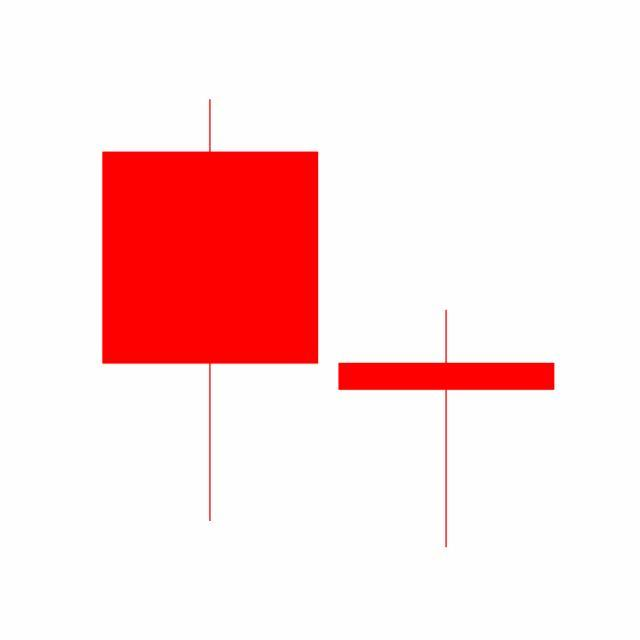Dragonfly Doji: (328, 309, 566, 552)
